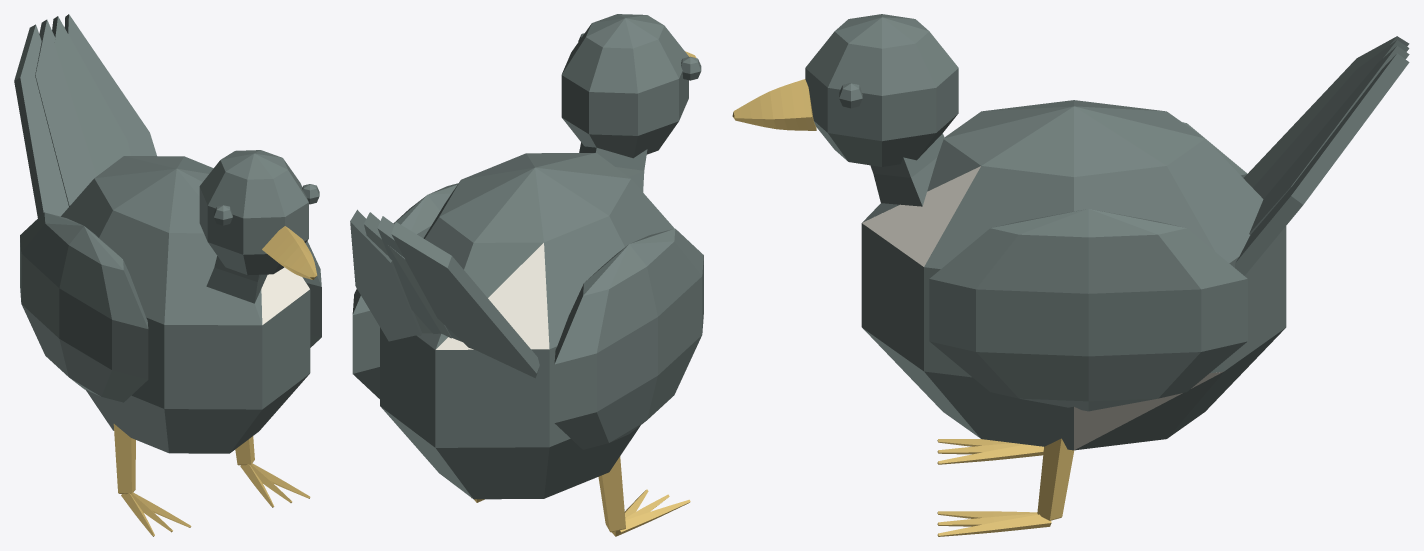
Rendered from guinea-fowl.glb.
3 renders of one model, left to right at view 1: azimuth 30°, elevation 25°; view 2: azimuth 150°, elevation 25°; view 3: azimuth 270°, elevation 25°, orthographic. The views are drawn at different scales.
Visible parts, largest first — view 1: guinea-fowl; view 2: guinea-fowl; view 3: guinea-fowl.
Boxes of the visible parts, box(x1,y1,x2,y2) form: guinea-fowl: box(14, 14, 321, 536); guinea-fowl: box(350, 14, 703, 536); guinea-fowl: box(732, 14, 1409, 536).
Size of the model in its own units: 0.3291 by 0.5385 by 0.6978.
